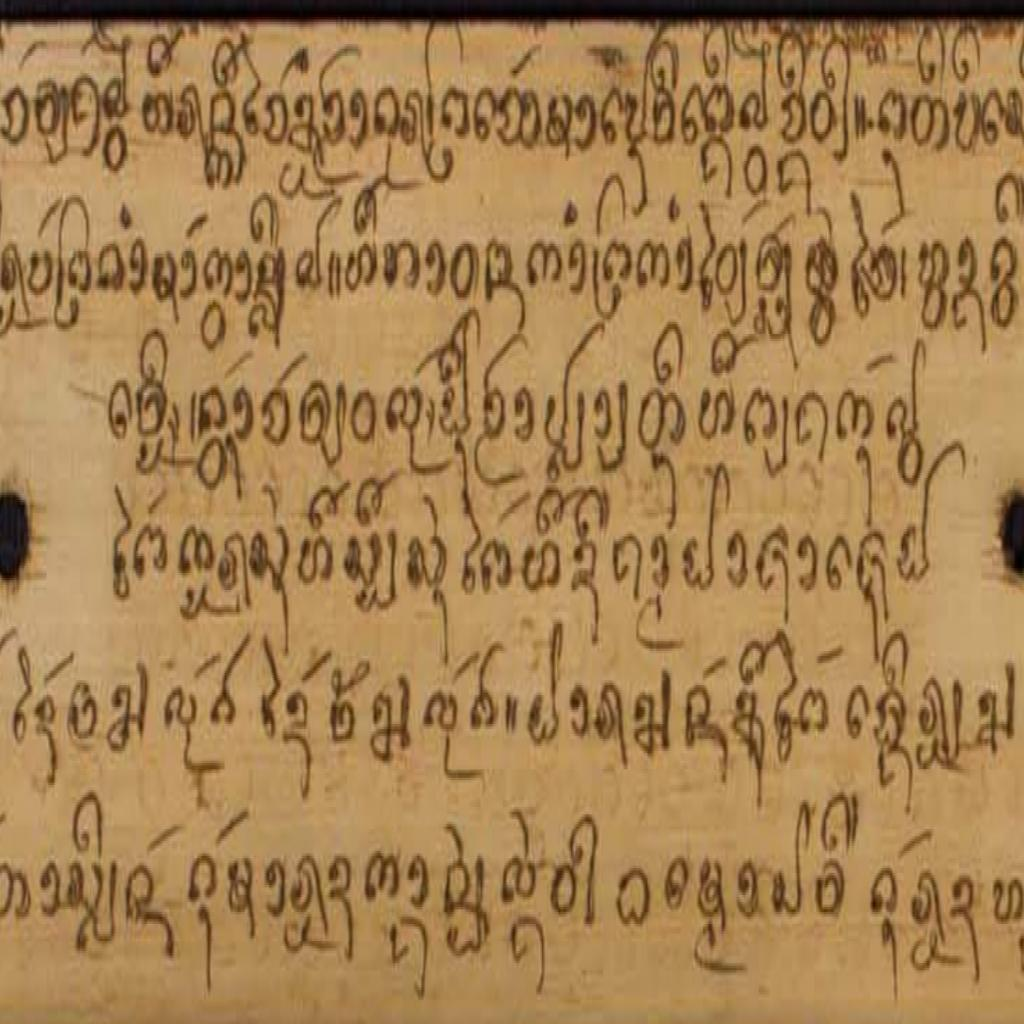LN022: (614, 859, 654, 938)
